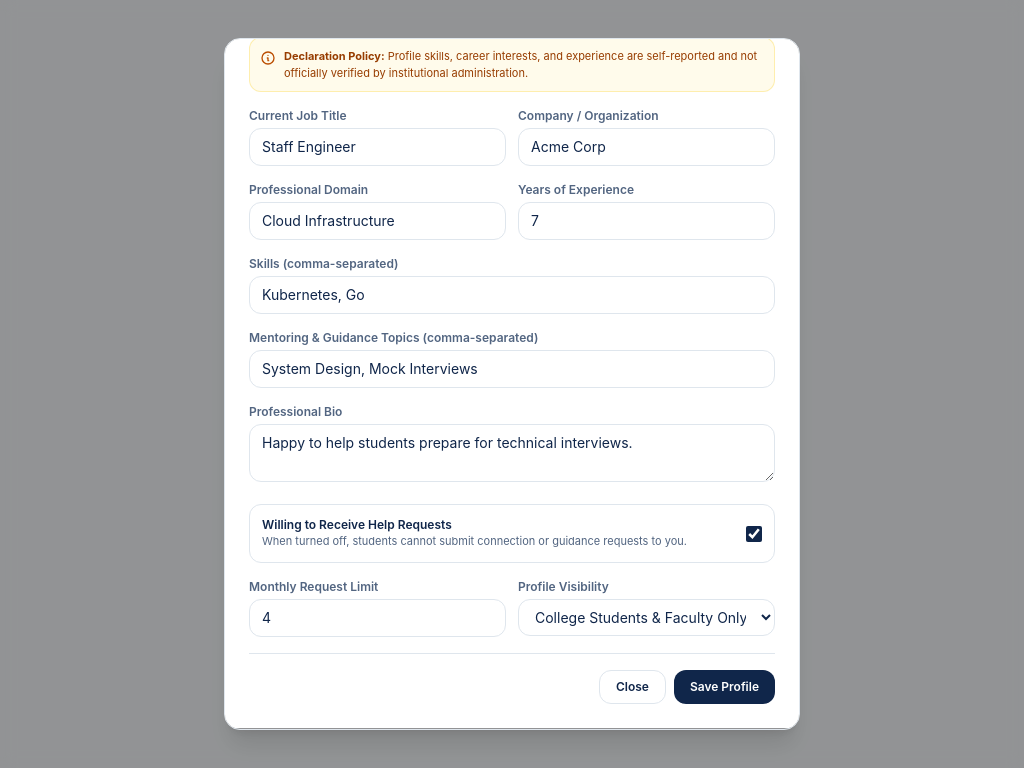
Scenario: MyProfileModal › renders alumni profile and allows toggling willing to help
(page scrolled)
Expected: the field showing "Staff Engineer" below "Current Job Title" is shown, [249, 128, 506, 166]
Expected: the field showing "Acme Corp" below "Company / Organization" is shown, [518, 128, 775, 166]
Click the button "Save Profile" at (724, 687), box [674, 670, 775, 704]
(page scrolled)
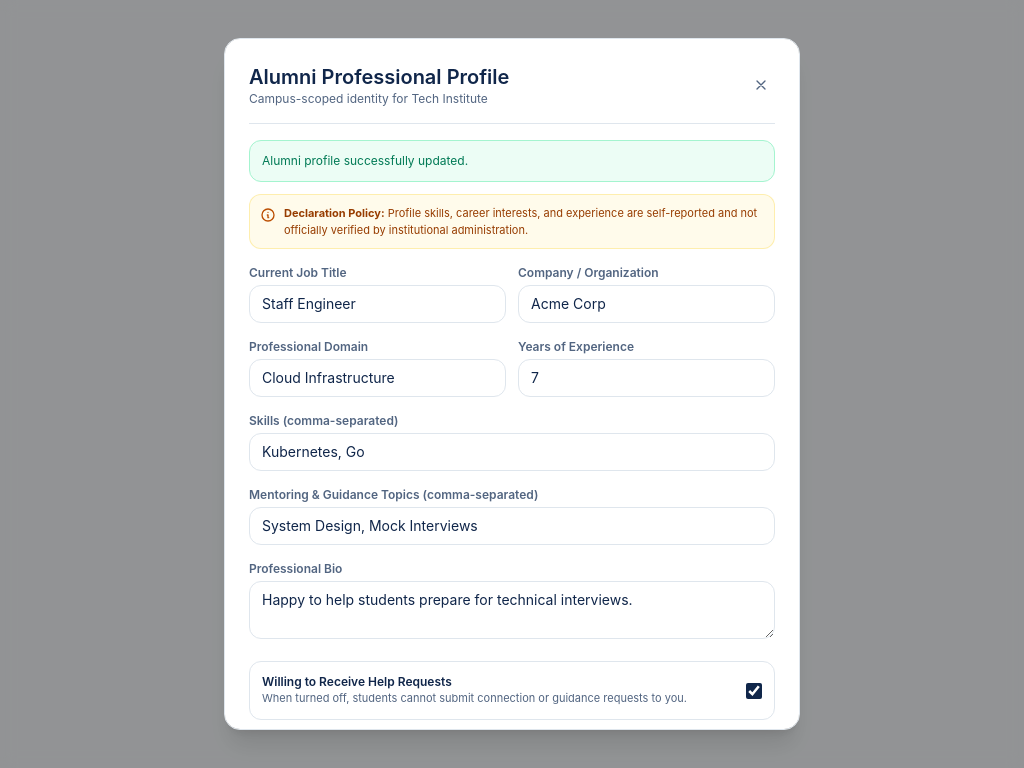
Expected: the text "Alumni profile successfully updated." is shown, [249, 140, 775, 182]
